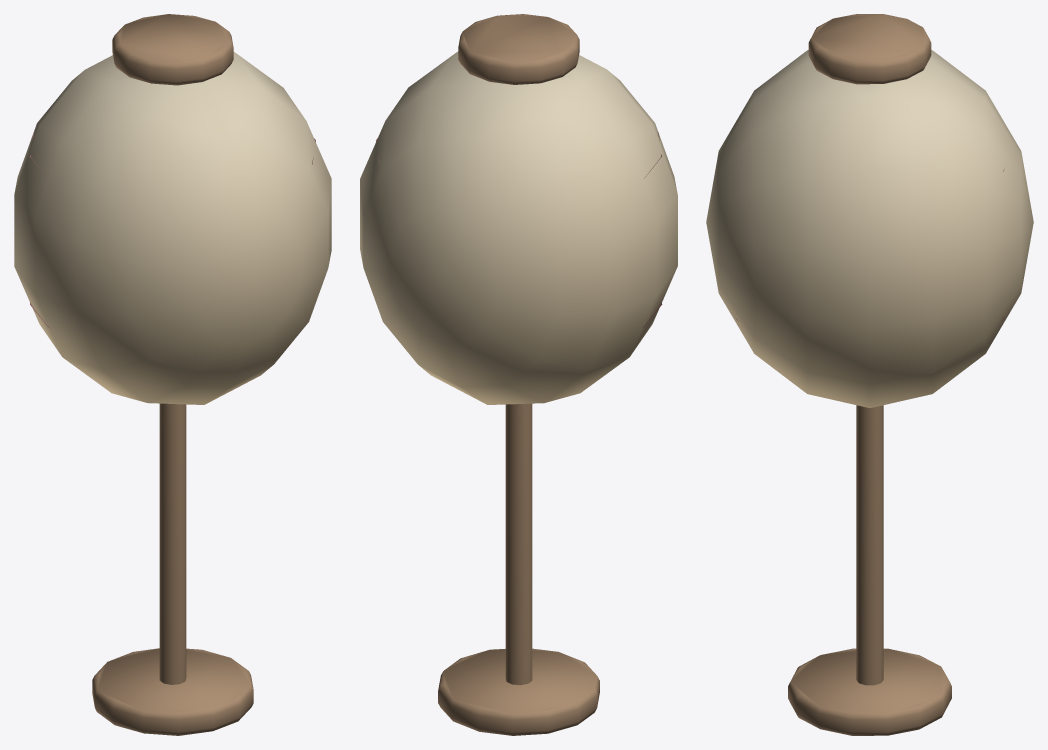
File: paper_lantern.glb
3 renders of one model, left to right at view 1: azimuth 30°, elevation 25°; view 2: azimuth 150°, elevation 25°; view 3: azimuth 270°, elevation 25°, orthographic.
Visible parts, largest first — view 1: paper_lantern; view 2: paper_lantern; view 3: paper_lantern.
Boxes of the visible parts, bbox=[...] form: paper_lantern: bbox=[14, 14, 331, 735]; paper_lantern: bbox=[360, 14, 677, 735]; paper_lantern: bbox=[706, 14, 1033, 735].
Size of the model in its own units: 0.468 by 1.08 by 0.48.
